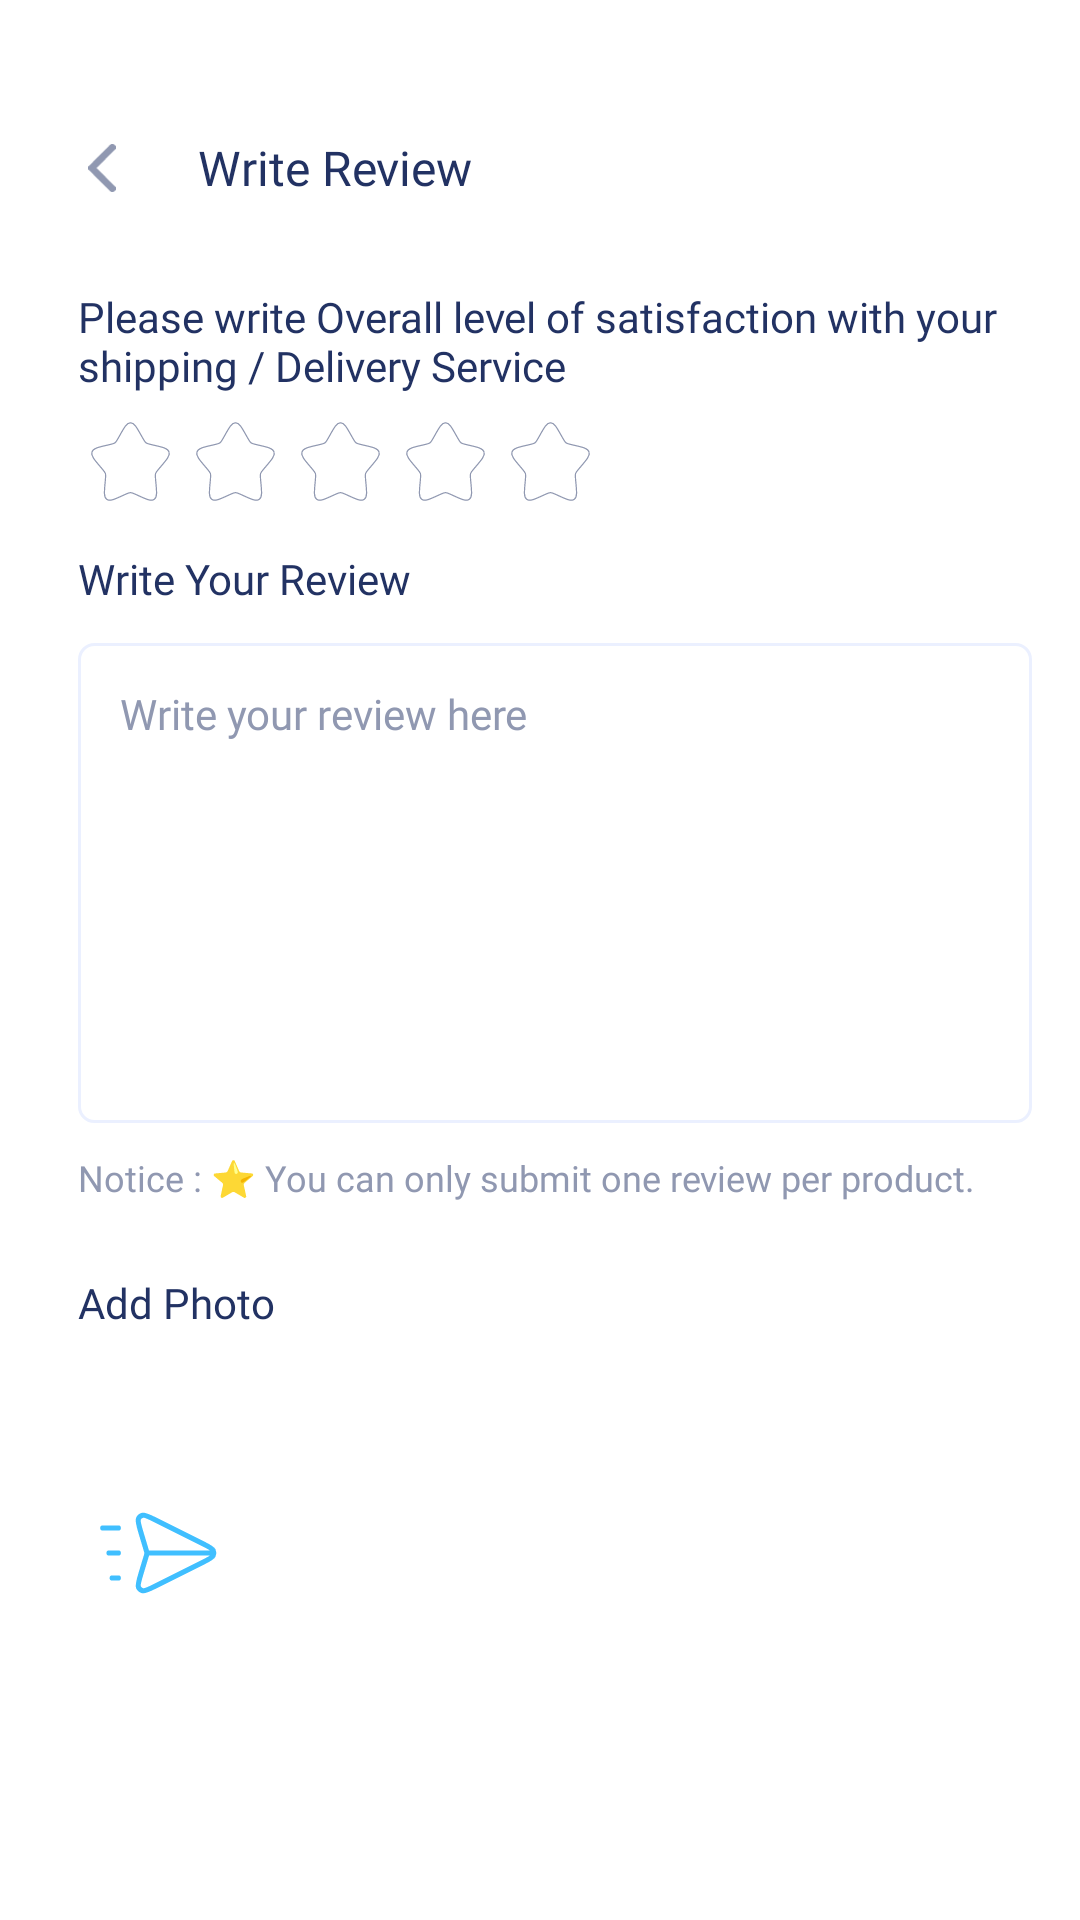

Named icons in this screenshot (1080*1920) and their centers, [x,y]:
rate of product: [130,461], [235,461], [340,461], [445,461], [550,461]
send review: [158,1553]
